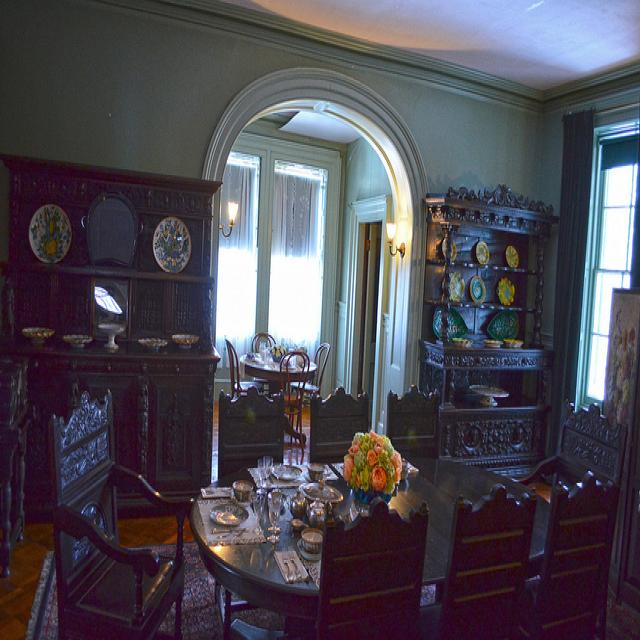chair: (46, 378, 192, 640), (438, 480, 539, 628), (316, 501, 429, 633), (528, 472, 620, 630), (508, 399, 628, 488), (219, 387, 284, 480), (310, 385, 369, 465), (386, 385, 441, 459), (278, 351, 309, 457), (226, 344, 258, 394), (305, 344, 330, 392), (251, 330, 277, 352)
dining table: (189, 429, 550, 640), (240, 348, 315, 394)
